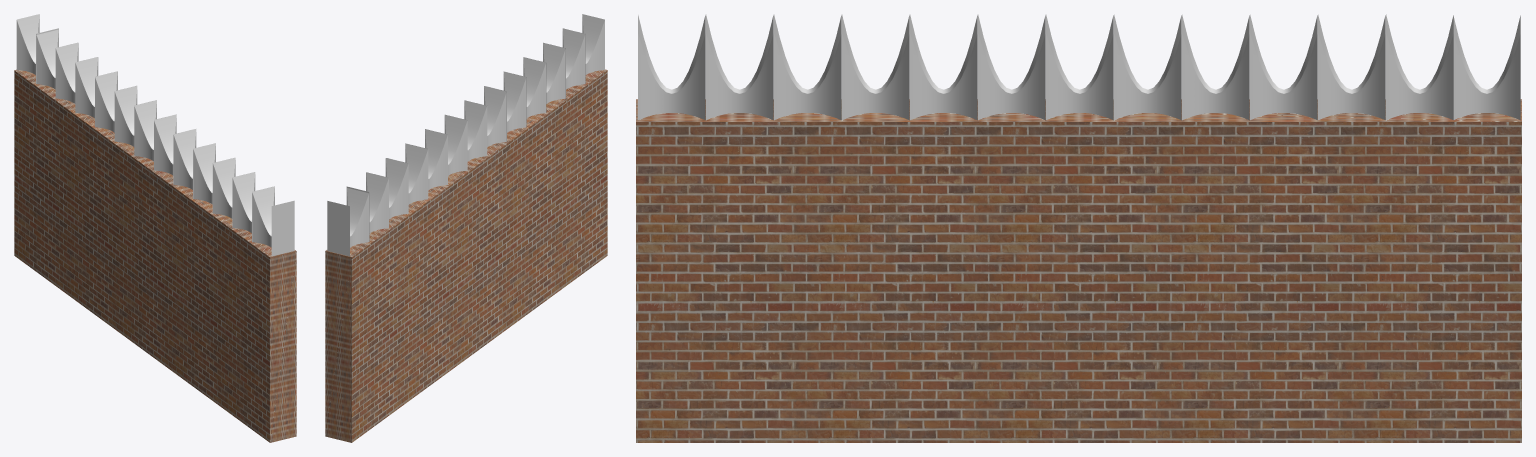
The model's file is ParedLVL2.FBX.
3 renders of one model, left to right at view 1: azimuth 30°, elevation 25°; view 2: azimuth 150°, elevation 25°; view 3: azimuth 270°, elevation 25°, orthographic. The views are drawn at different scales.
Visible parts, largest first — view 1: Box001, Box014; view 2: Box001, Box014; view 3: Box001, Box014.
Boxes of the visible parts, x1,y1,x2,y2 form: Box001: (14, 69, 296, 442); Box014: (16, 14, 294, 256); Box001: (325, 69, 607, 442); Box014: (327, 14, 604, 256); Box001: (636, 99, 1521, 442); Box014: (638, 14, 1520, 120).
Size of the model in its own units: 300 by 2543 by 5000.
Materials: 1 (1 with a texture image).
